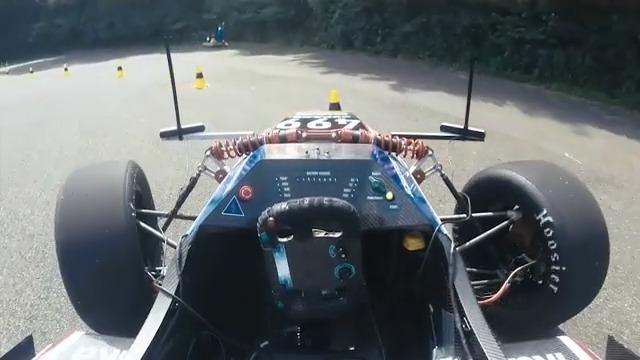yellow_cone: (192, 65, 210, 89), (114, 61, 128, 78)
